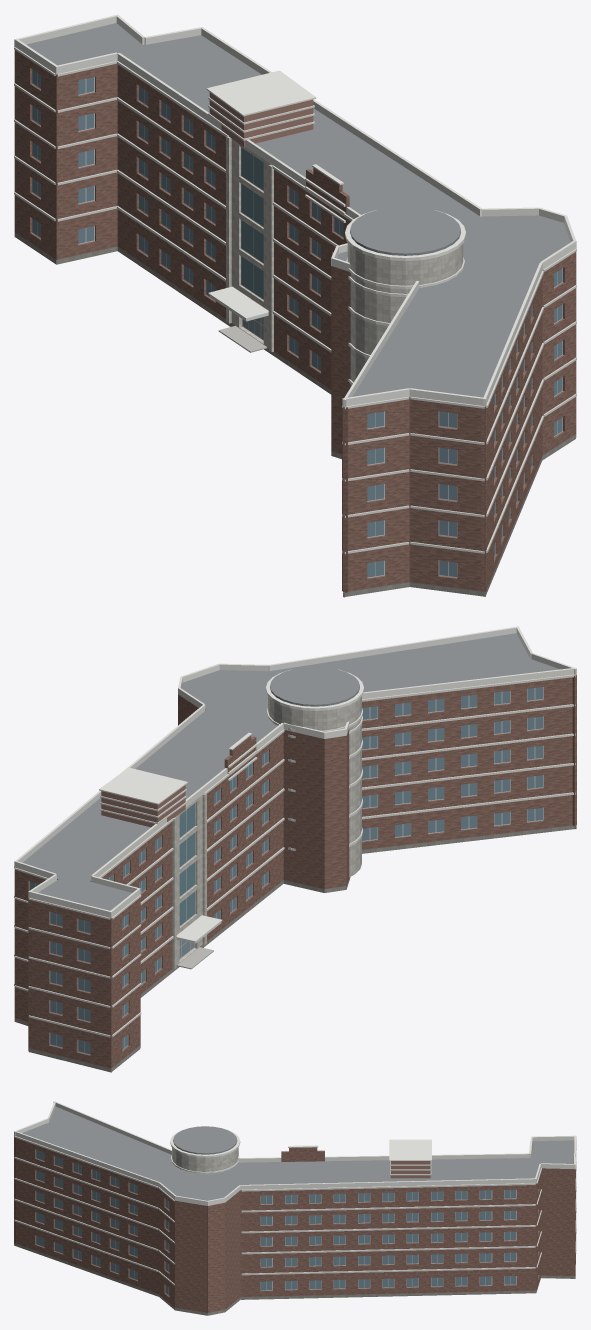
The picture shows the model from 3 angles, top to bottom: view 1: azimuth 30°, elevation 25°; view 2: azimuth 150°, elevation 25°; view 3: azimuth 270°, elevation 25°; orthographic projection. The views are drawn at different scales.
Visible parts, largest first — view 1: inui__brick, inui__roof, inui__cap, inui__trim, inui__glass, inui__rotunda, inui__stone, inui__frame, inui__curtainglass, inui__core, inui__plinth, inui__foundation; view 2: inui__brick, inui__roof, inui__cap, inui__glass, inui__trim, inui__frame, inui__rotunda, inui__stone, inui__plinth, inui__core, inui__curtainglass, inui__foundation; view 3: inui__brick, inui__roof, inui__glass, inui__cap, inui__trim, inui__frame, inui__plinth, inui__rotunda, inui__foundation, inui__core.
Part boxes in pixels (bbox=[...]): inui__brick: bbox=[14, 45, 576, 592]; inui__roof: bbox=[26, 23, 570, 397]; inui__cap: bbox=[14, 14, 576, 407]; inui__trim: bbox=[14, 47, 576, 554]; inui__glass: bbox=[32, 69, 562, 577]; inui__rotunda: bbox=[347, 243, 463, 386]; inui__stone: bbox=[226, 136, 273, 352]; inui__frame: bbox=[32, 69, 562, 578]; inui__curtainglass: bbox=[241, 147, 263, 298]; inui__core: bbox=[209, 92, 313, 147]; inui__plinth: bbox=[15, 232, 576, 595]; inui__foundation: bbox=[14, 233, 575, 597]; inui__brick: bbox=[14, 675, 576, 1068]; inui__roof: bbox=[22, 633, 559, 910]; inui__cap: bbox=[14, 626, 576, 942]; inui__glass: bbox=[30, 687, 542, 1054]; inui__trim: bbox=[14, 674, 575, 1037]; inui__frame: bbox=[29, 687, 543, 1054]; inui__rotunda: bbox=[268, 696, 361, 877]; inui__stone: bbox=[172, 793, 206, 969]; inui__plinth: bbox=[14, 825, 575, 1071]; inui__core: bbox=[101, 785, 185, 827]; inui__curtainglass: bbox=[179, 803, 195, 925]; inui__foundation: bbox=[14, 825, 576, 1072]; inui__brick: bbox=[14, 1136, 575, 1312]; inui__roof: bbox=[22, 1106, 573, 1200]; inui__glass: bbox=[36, 1149, 515, 1295]; inui__cap: bbox=[14, 1101, 576, 1205]; inui__trim: bbox=[14, 1136, 576, 1285]; inui__frame: bbox=[36, 1150, 538, 1295]; inui__plinth: bbox=[14, 1243, 575, 1314]; inui__rotunda: bbox=[172, 1147, 238, 1171]; inui__foundation: bbox=[14, 1243, 575, 1315]; inui__core: bbox=[390, 1161, 430, 1178].
Bounding box in the file's own units: 37.04 × 22.33 × 87.7.
Materials: 16 (6 with a texture image).
